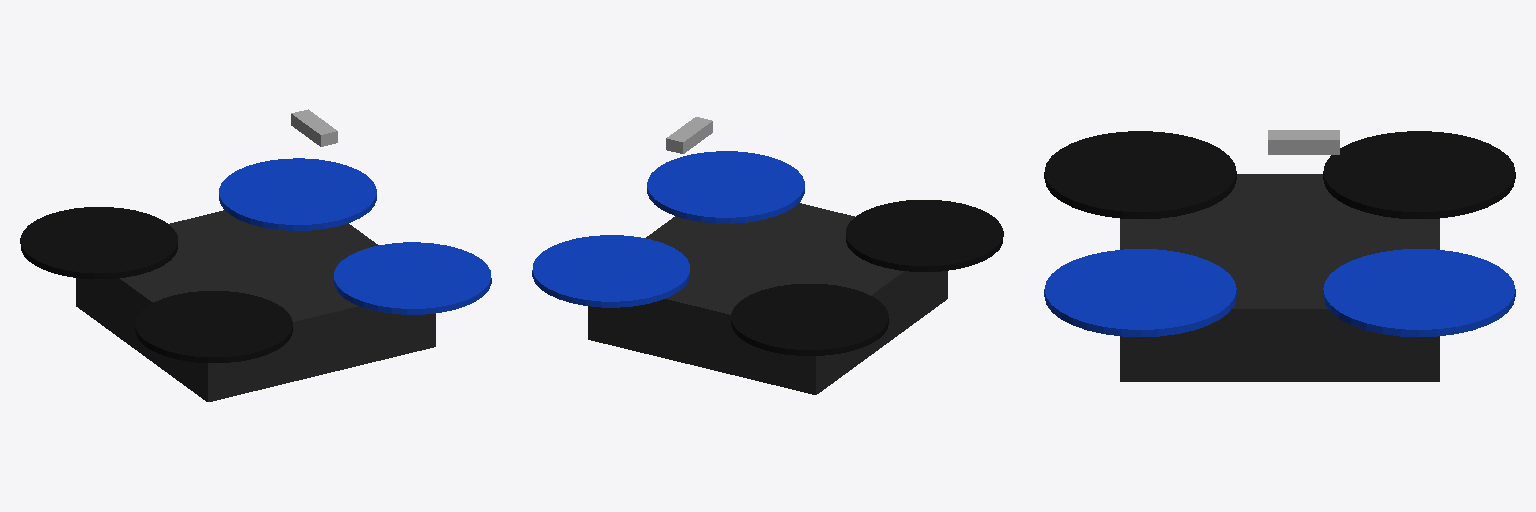
URDF robot description (x500_depth_down):
<?xml version="1.0"?>
<robot name="x500_depth_down">

  <!-- UAV Base link -->
  <link name="uav_base_link">
    <inertial>
      <origin xyz="0 0 0" rpy="0 0 0"/>
      <mass value="1.5"/>
      <inertia ixx="0.0291" ixy="0.0" ixz="0.0"
               iyy="0.0291" iyz="0.0"
               izz="0.0552"/>
    </inertial>
    <visual>
      <origin xyz="0 0 0" rpy="0 0 0"/>
      <geometry>
        <box size="0.4 0.4 0.1"/>
      </geometry>
      <material name="dark_grey">
        <color rgba="0.2 0.2 0.2 1.0"/>
      </material>
    </visual>
    <collision>
      <origin xyz="0 0 0" rpy="0 0 0"/>
      <geometry>
        <box size="0.4 0.4 0.1"/>
      </geometry>
    </collision>
  </link>

  <!-- Rotor arms and rotors -->
  <link name="rotor_0">
    <visual>
      <origin xyz="0 0 0" rpy="0 0 0"/>
      <geometry>
        <cylinder radius="0.12" length="0.01"/>
      </geometry>
      <material name="rotor_blue">
        <color rgba="0.1 0.3 0.8 0.6"/>
      </material>
    </visual>
  </link>
  <joint name="rotor_0_joint" type="continuous">
    <parent link="uav_base_link"/>
    <child link="rotor_0"/>
    <origin xyz="0.174 -0.174 0.06" rpy="0 0 0"/>
    <axis xyz="0 0 1"/>
  </joint>

  <link name="rotor_1">
    <visual>
      <origin xyz="0 0 0" rpy="0 0 0"/>
      <geometry>
        <cylinder radius="0.12" length="0.01"/>
      </geometry>
      <material name="rotor_black">
        <color rgba="0.1 0.1 0.1 0.6"/>
      </material>
    </visual>
  </link>
  <joint name="rotor_1_joint" type="continuous">
    <parent link="uav_base_link"/>
    <child link="rotor_1"/>
    <origin xyz="-0.174 0.174 0.06" rpy="0 0 0"/>
    <axis xyz="0 0 1"/>
  </joint>

  <link name="rotor_2">
    <visual>
      <origin xyz="0 0 0" rpy="0 0 0"/>
      <geometry>
        <cylinder radius="0.12" length="0.01"/>
      </geometry>
      <material name="rotor_blue"/>
    </visual>
  </link>
  <joint name="rotor_2_joint" type="continuous">
    <parent link="uav_base_link"/>
    <child link="rotor_2"/>
    <origin xyz="0.174 0.174 0.06" rpy="0 0 0"/>
    <axis xyz="0 0 1"/>
  </joint>

  <link name="rotor_3">
    <visual>
      <origin xyz="0 0 0" rpy="0 0 0"/>
      <geometry>
        <cylinder radius="0.12" length="0.01"/>
      </geometry>
      <material name="rotor_black"/>
    </visual>
  </link>
  <joint name="rotor_3_joint" type="continuous">
    <parent link="uav_base_link"/>
    <child link="rotor_3"/>
    <origin xyz="-0.174 -0.174 0.06" rpy="0 0 0"/>
    <axis xyz="0 0 1"/>
  </joint>

  <!-- OakD-Lite Downward Depth Camera -->
  <link name="camera_link">
    <inertial>
      <origin xyz="0 0 0" rpy="0 0 0"/>
      <mass value="0.06"/>
      <inertia ixx="0.0001" ixy="0.0" ixz="0.0"
               iyy="0.0001" iyz="0.0"
               izz="0.0001"/>
    </inertial>
    <visual>
      <origin xyz="0 0 0" rpy="0 0 0"/>
      <geometry>
        <box size="0.02 0.09 0.03"/>
      </geometry>
      <material name="camera_silver">
        <color rgba="0.7 0.7 0.7 1.0"/>
      </material>
    </visual>
    <collision>
      <origin xyz="0 0 0" rpy="0 0 0"/>
      <geometry>
        <box size="0.02 0.09 0.03"/>
      </geometry>
    </collision>
  </link>

  <joint name="camera_joint" type="fixed">
    <parent link="uav_base_link"/>
    <child link="camera_link"/>
    <origin xyz="0.12 0.03 0.242" rpy="0 1.57079632679 0"/>
  </joint>

  <!-- REP-103 Camera Optical Frame -->
  <link name="camera_optical_frame"/>
  <joint name="camera_optical_joint" type="fixed">
    <parent link="camera_link"/>
    <child link="camera_optical_frame"/>
    <origin xyz="0 0 0" rpy="-1.57079632679 0 -1.57079632679"/>
  </joint>

</robot>

--- Render facts (derived) ---
3 views of the same robot in one strip: view 1: azimuth 30°, elevation 25°; view 2: azimuth 150°, elevation 25°; view 3: azimuth 270°, elevation 25° (orthographic).
Model x500_depth_down with 7 links and 6 joints (4 continuous, 2 fixed), rooted at uav_base_link, posed every joint at zero.
Visible links, largest first — view 1: uav_base_link, rotor_2, rotor_0, rotor_3, rotor_1, camera_link; view 2: uav_base_link, rotor_2, rotor_0, rotor_1, rotor_3, camera_link; view 3: uav_base_link, rotor_0, rotor_2, rotor_3, rotor_1, camera_link.
Link boxes in pixels (x1,y1,x2,y2): uav_base_link: [76, 210, 435, 401]; rotor_2: [219, 158, 376, 230]; rotor_0: [334, 242, 491, 314]; rotor_3: [135, 291, 292, 362]; rotor_1: [20, 207, 177, 278]; camera_link: [291, 109, 337, 146]; uav_base_link: [588, 203, 947, 394]; rotor_2: [532, 235, 689, 307]; rotor_0: [647, 151, 804, 223]; rotor_1: [731, 284, 888, 355]; rotor_3: [846, 200, 1003, 271]; camera_link: [666, 117, 712, 153]; uav_base_link: [1120, 174, 1439, 381]; rotor_0: [1044, 249, 1236, 336]; rotor_2: [1323, 249, 1515, 336]; rotor_3: [1044, 131, 1236, 218]; rotor_1: [1323, 131, 1515, 218]; camera_link: [1268, 130, 1339, 154].
Bounding box of the posed robot: 0.588 × 0.588 × 0.302 m (x, y, z).
Geometry: primitives only (box / cylinder / sphere), no mesh files.
